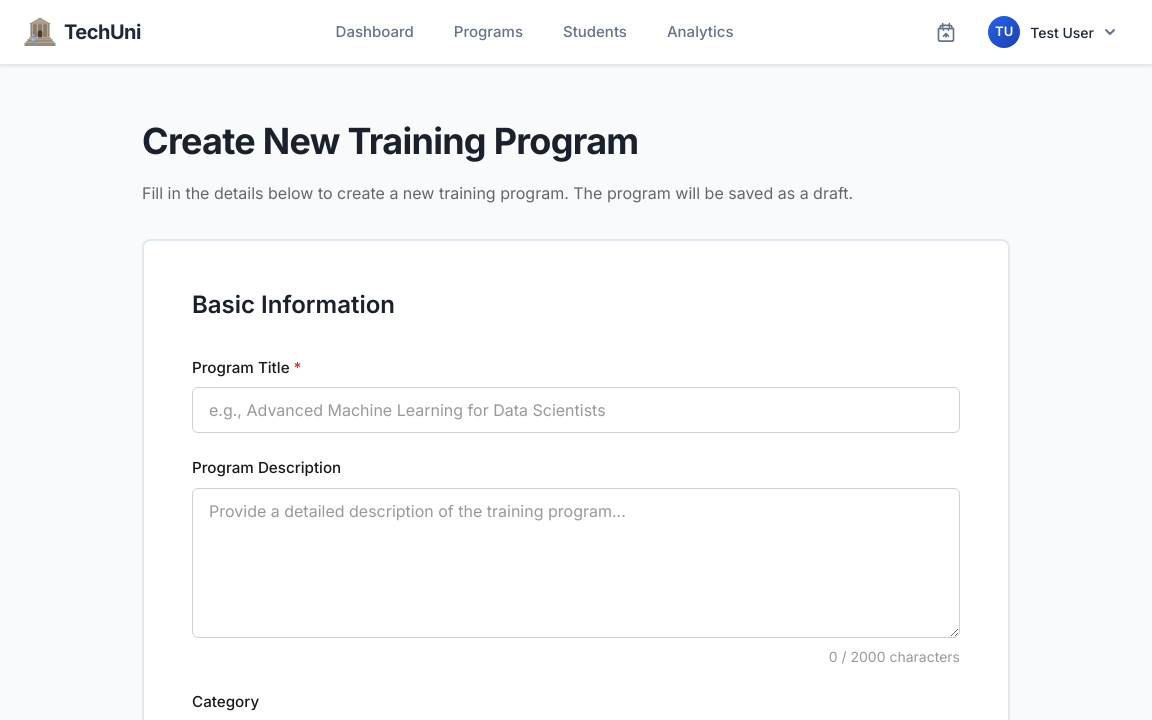
Test: Course Creation Flow Integration Tests › should handle API errors gracefully
The width and height of the screenshot is (1152, 720).
Note: Fill and submit form
In the field labelled "Program Title *": (576, 410) [192,387,960,433], type "Duplicate Course"
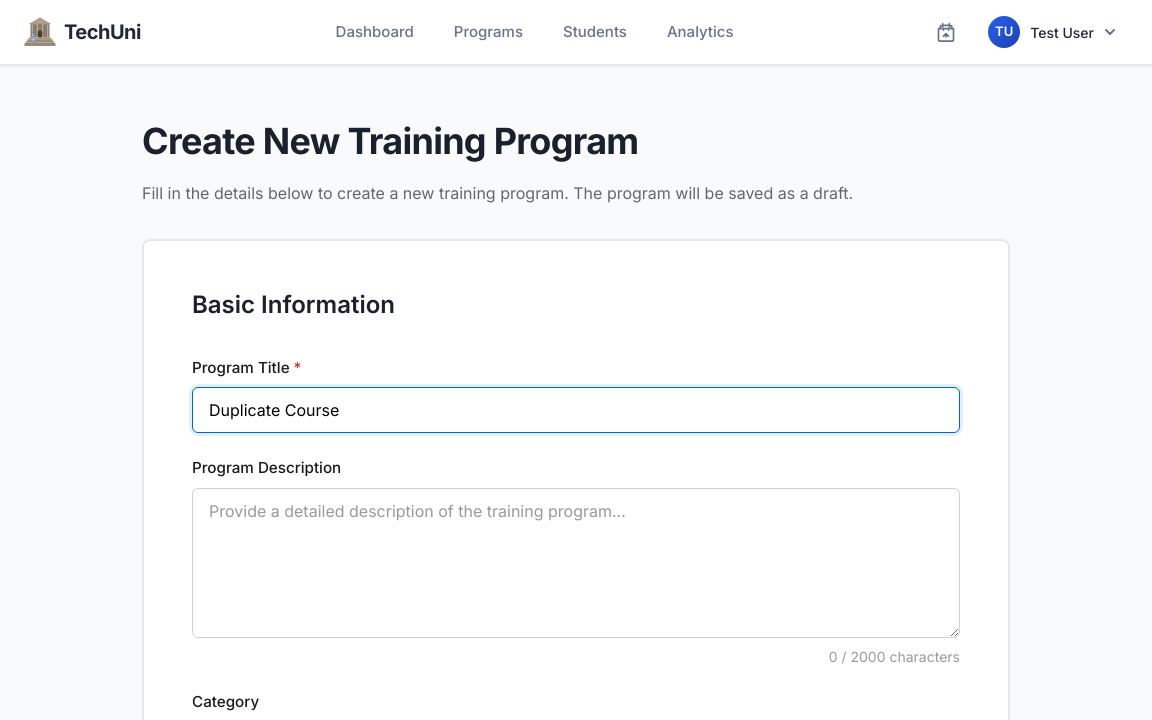
In the text box labelled "Program Description": (576, 563) [192,488,960,638], type "Test description"
(page scrolled)
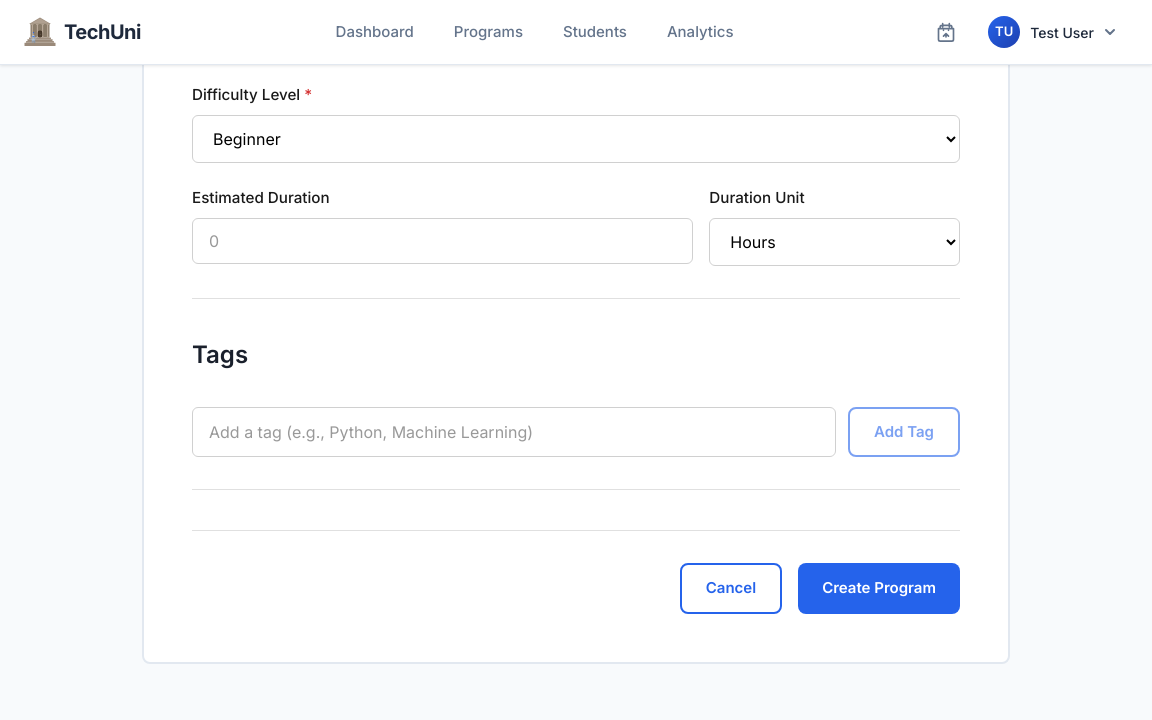
Click the button "Create Program": (879, 588) [798,563,960,614]
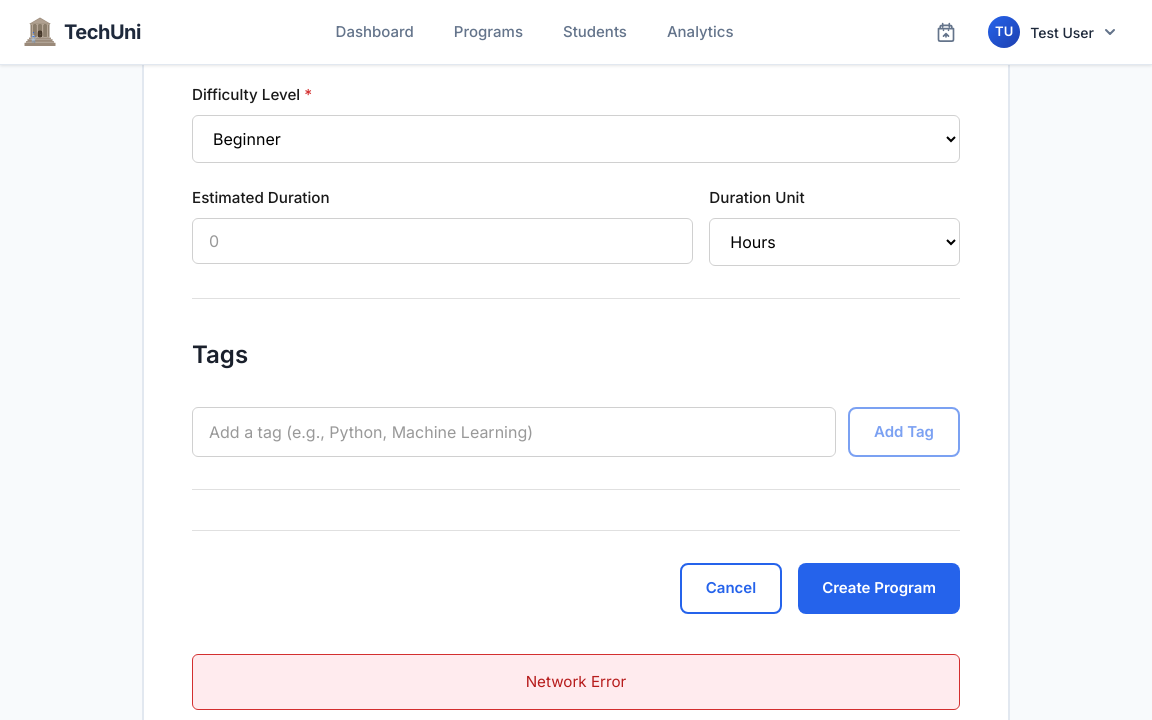
Check: the message reads "Network Error", box [526,672,626,691]
